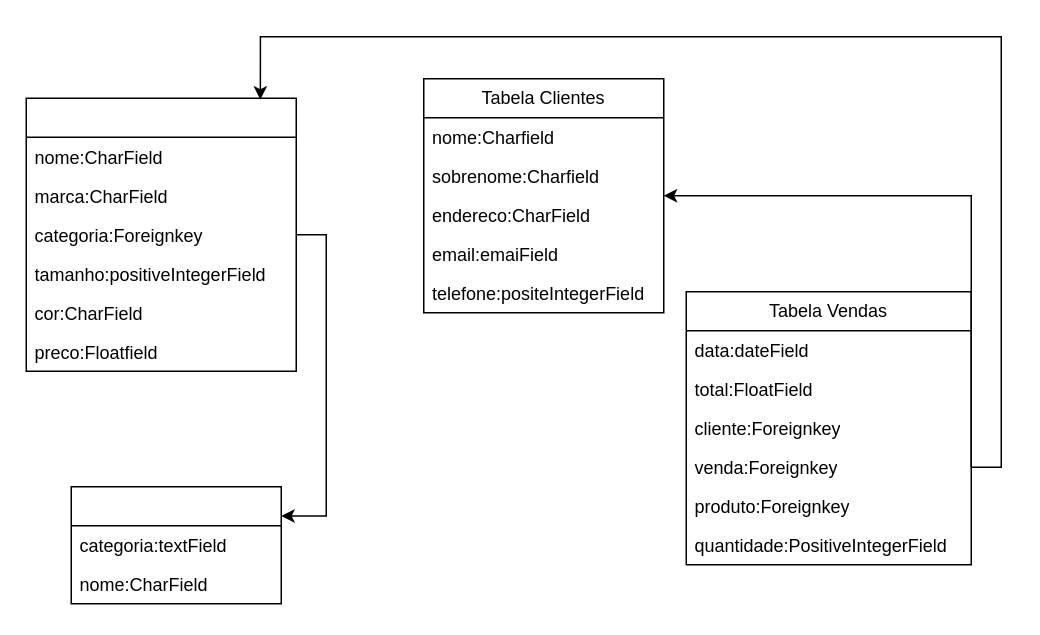
Image size: 1040x635. Some labels were removed from this diagram. The shapes that lost their labels are listed below. From the top down, each one's box as (x1, y1, x2, y2) in pixels, then its label:
(25, 97, 296, 371): Tabela Produtos
(70, 485, 281, 604): Tabela Categoria
